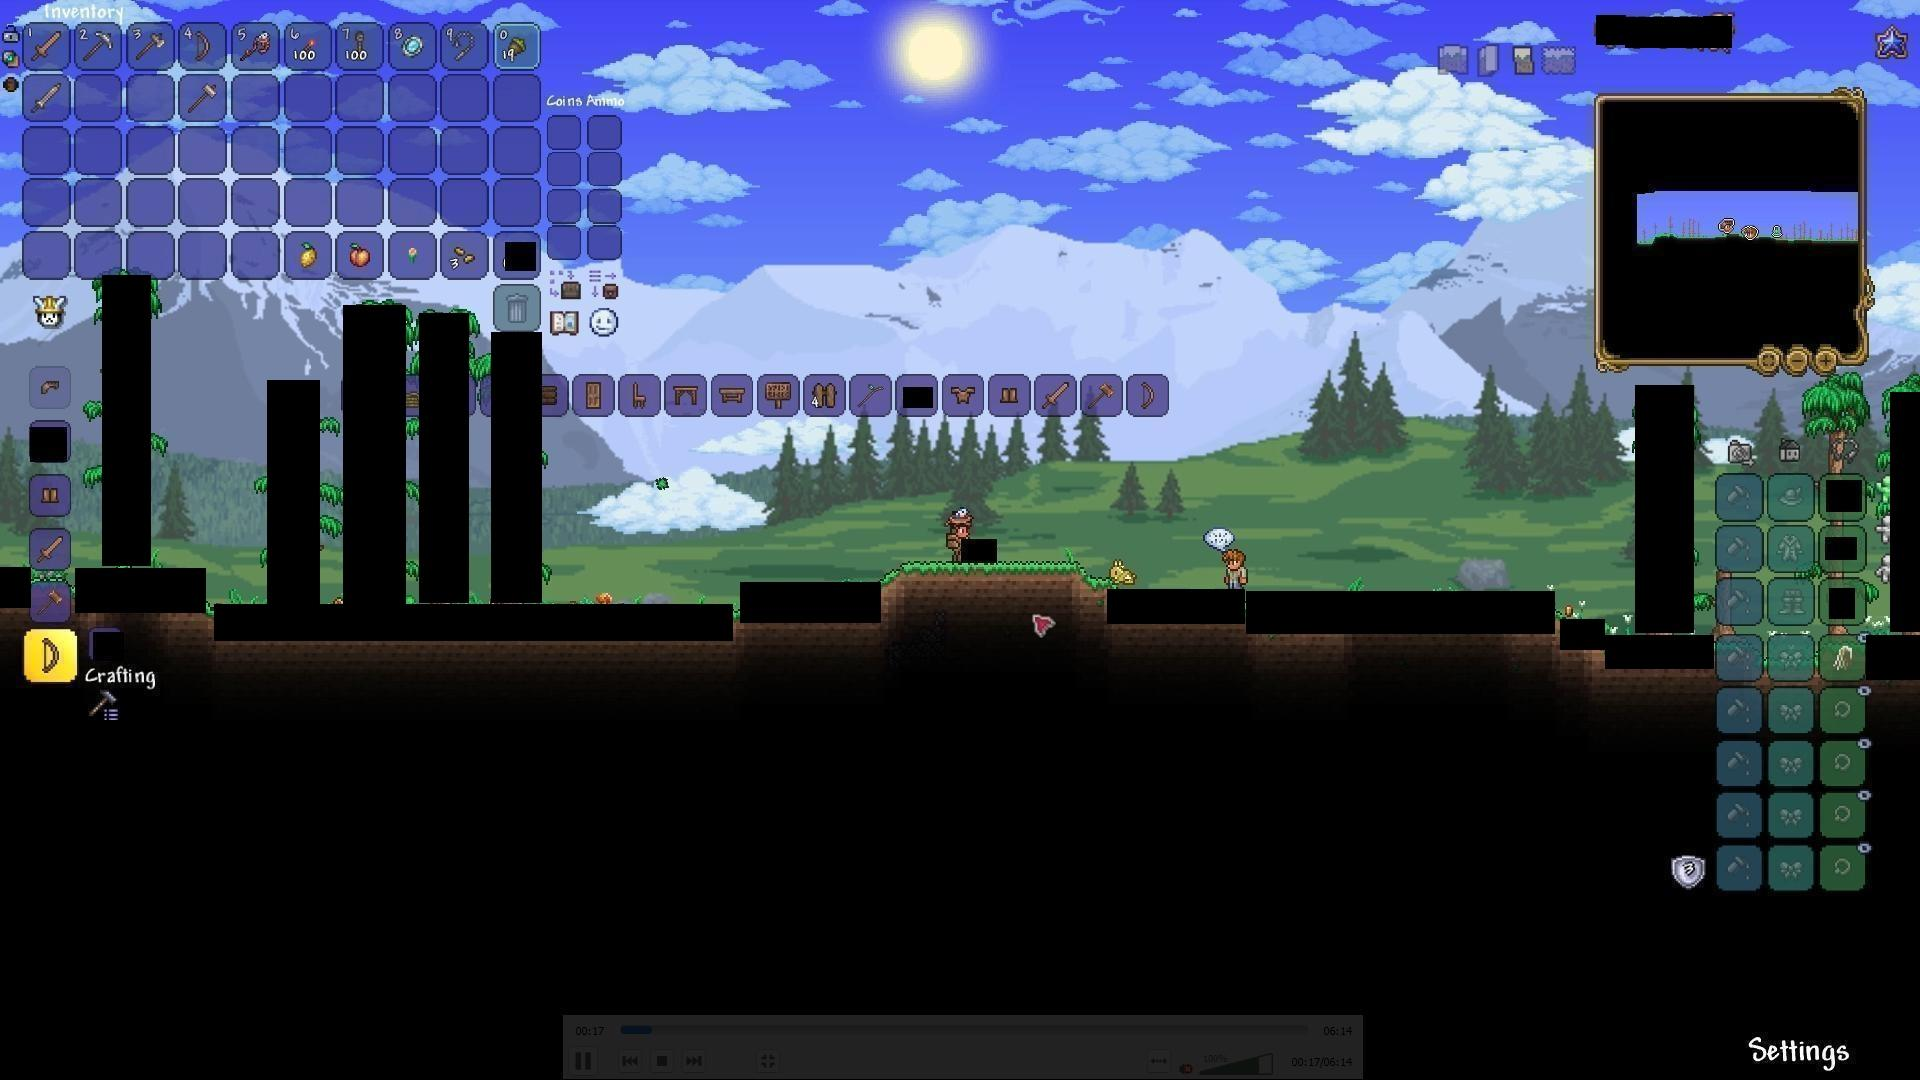breastplate: (948, 375, 984, 409)
dirt: (881, 556, 1098, 611)
helmet: (33, 371, 69, 401)
legs: (38, 481, 65, 506), (997, 382, 1023, 407)
wood: (716, 381, 748, 411)
